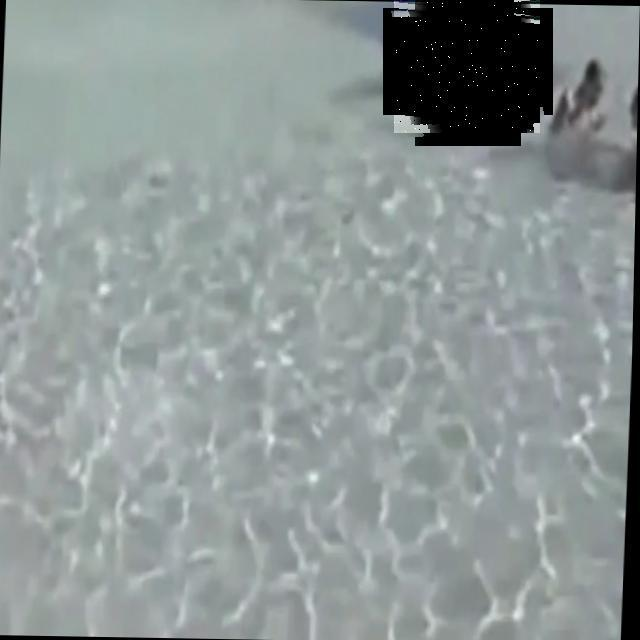swimming: (394, 0, 540, 133)
